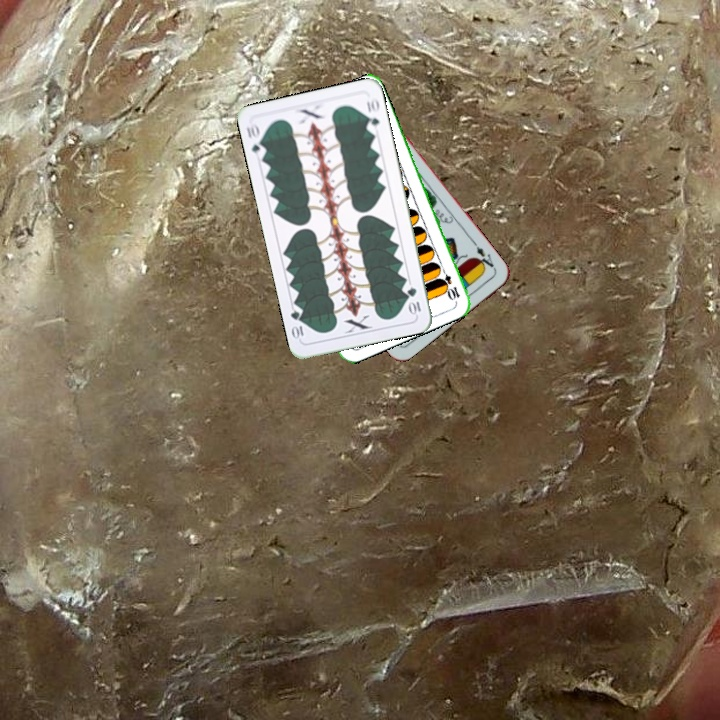E10: (436, 263, 463, 303)
EA: (470, 238, 498, 273)
G10: (242, 119, 268, 160), (403, 283, 423, 317)
